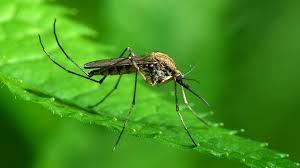insect: (34, 15, 216, 152)
